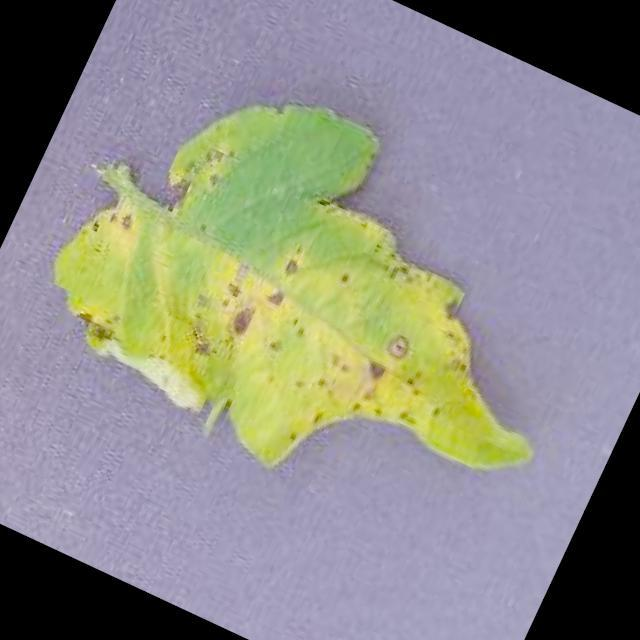Tomato Septoria spot leaf: (13, 28, 633, 570)
